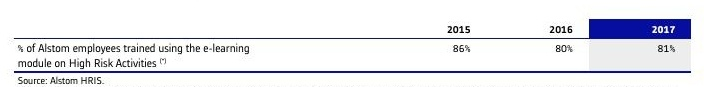table: (0, 0, 704, 87)
